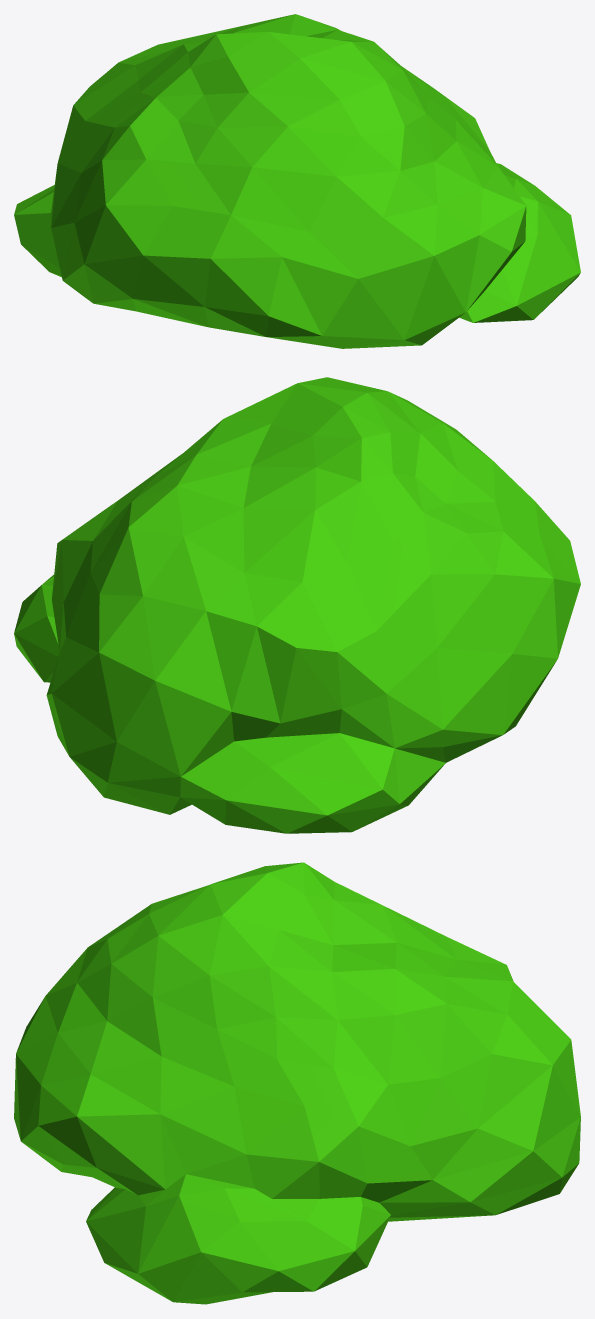
The model's file is lp_tree2_Icosphere_007.obj.
3 renders of one model, top to bottom at view 1: azimuth 30°, elevation 25°; view 2: azimuth 150°, elevation 25°; view 3: azimuth 270°, elevation 25°, orthographic. The views are drawn at different scales.
Parts seen in each view (by area): view 1: lp_tree2_Icosphere_007; view 2: lp_tree2_Icosphere_007; view 3: lp_tree2_Icosphere_007.
Boxes of the visible parts, box(x1,y1,x2,y2) form: lp_tree2_Icosphere_007: box(14, 14, 580, 348); lp_tree2_Icosphere_007: box(14, 377, 580, 833); lp_tree2_Icosphere_007: box(14, 862, 580, 1304).
Size of the model in its own units: 10.16 by 6.01 by 10.05.
